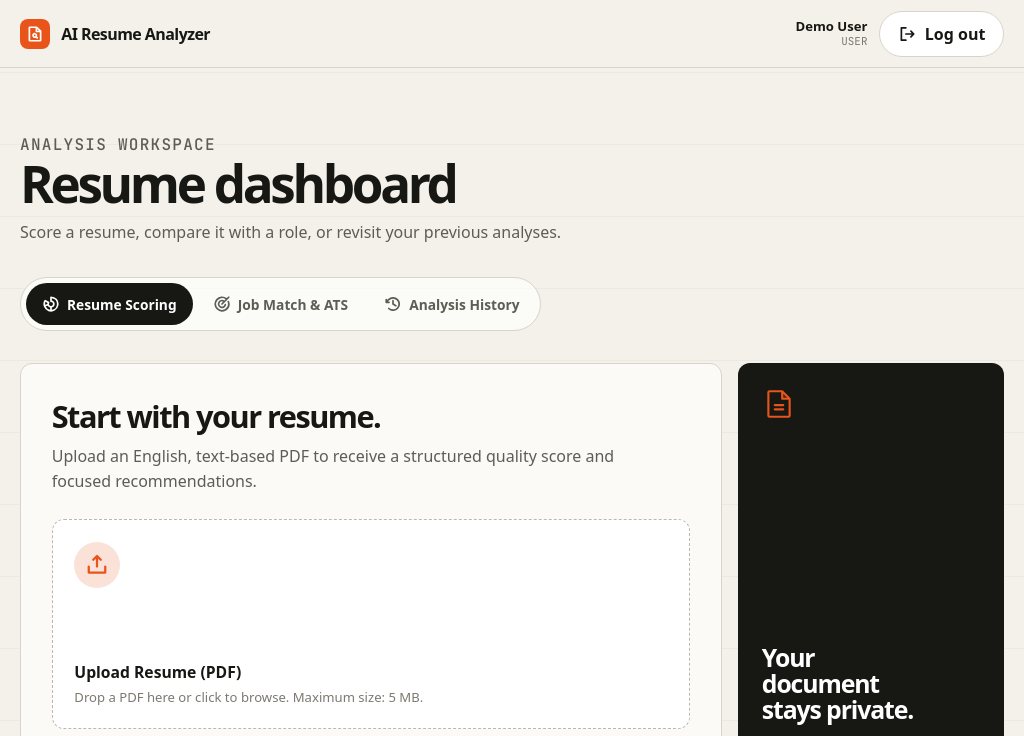
App authenticated flow › logout clears the session and redirects a protected route to login
Expected: the heading "Resume dashboard" is shown, [20,148,456,218]
Click the button "Log out".
click(942, 34)  # box [879,10,1004,56]
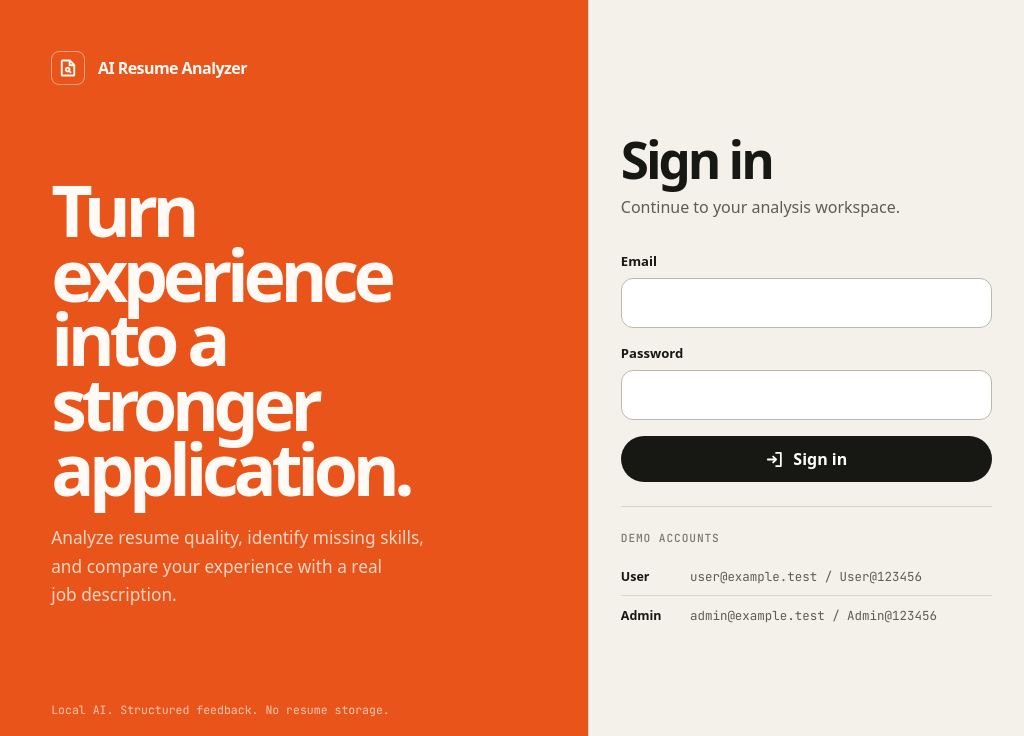
Expected: the heading "Sign in" is shown, [621,124,772,194]
